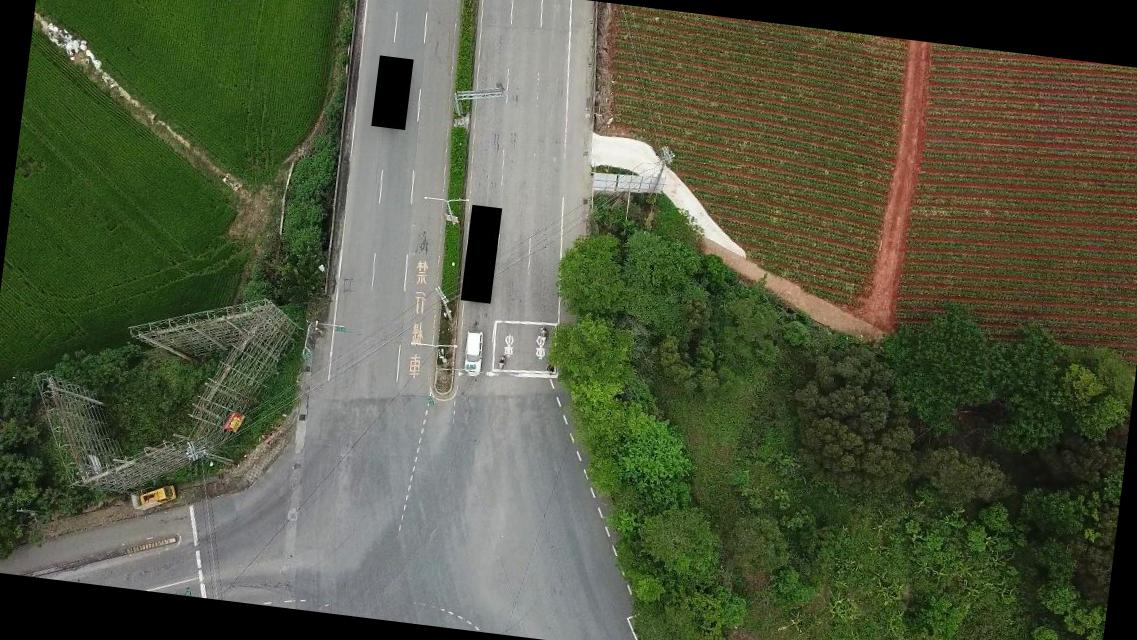vehicle: (460, 327, 488, 378), (136, 482, 176, 511)
